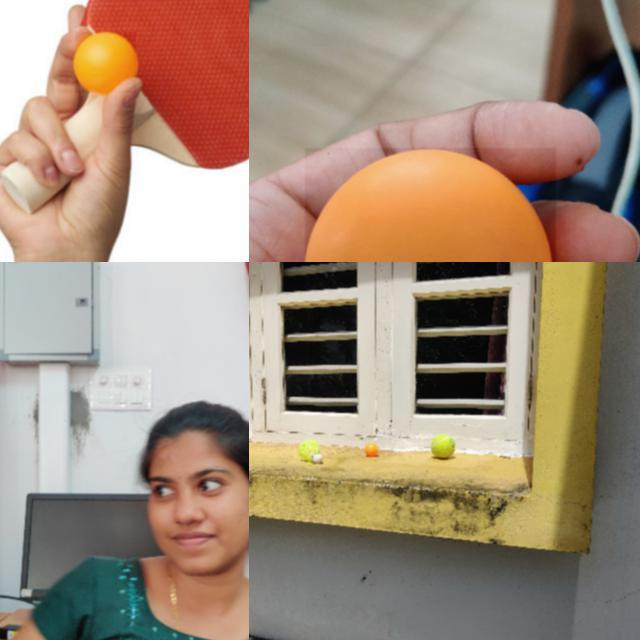ping-pong-ball: (305, 148, 558, 261), (74, 32, 138, 94), (364, 443, 378, 457)
